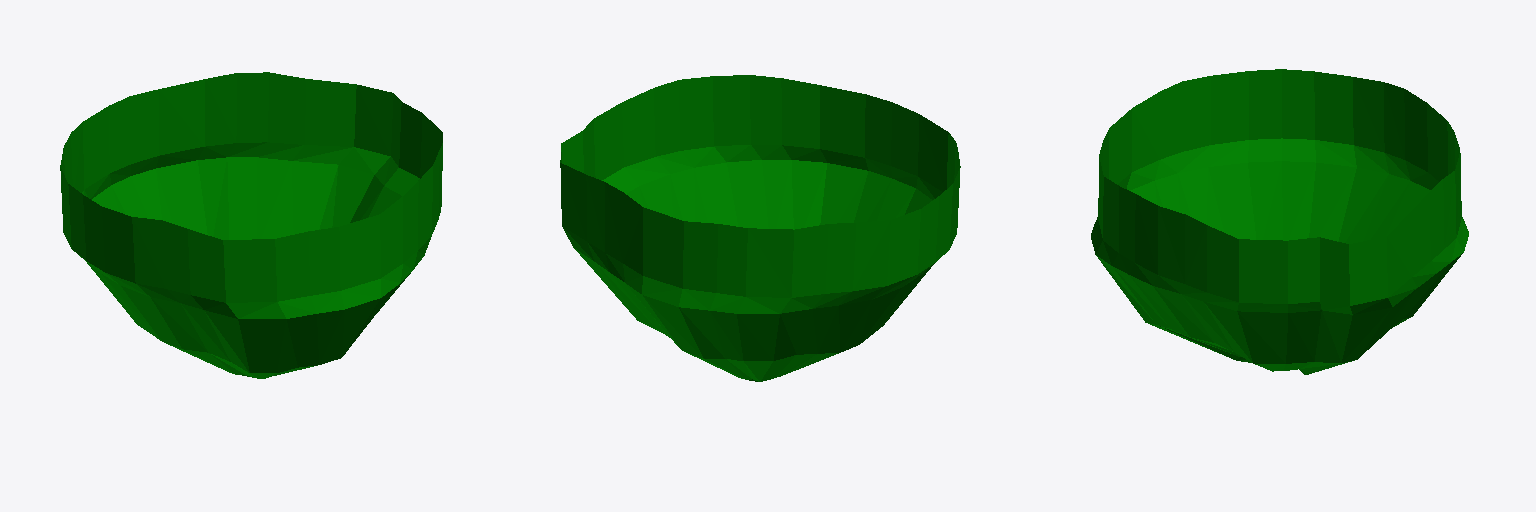
The model's file is nuez.obj.
3 renders of one model, left to right at view 1: azimuth 30°, elevation 25°; view 2: azimuth 150°, elevation 25°; view 3: azimuth 270°, elevation 25°, orthographic.
Visible parts, largest first — view 1: Sphere001; view 2: Sphere001; view 3: Sphere001.
Boxes of the visible parts, x1=… form: Sphere001: x1=60, y1=72, x2=442, y2=378; Sphere001: x1=560, y1=75, x2=960, y2=381; Sphere001: x1=1091, y1=69, x2=1468, y2=374.
Bounding box in the file's own units: 9.08 × 5.45 × 8.66.